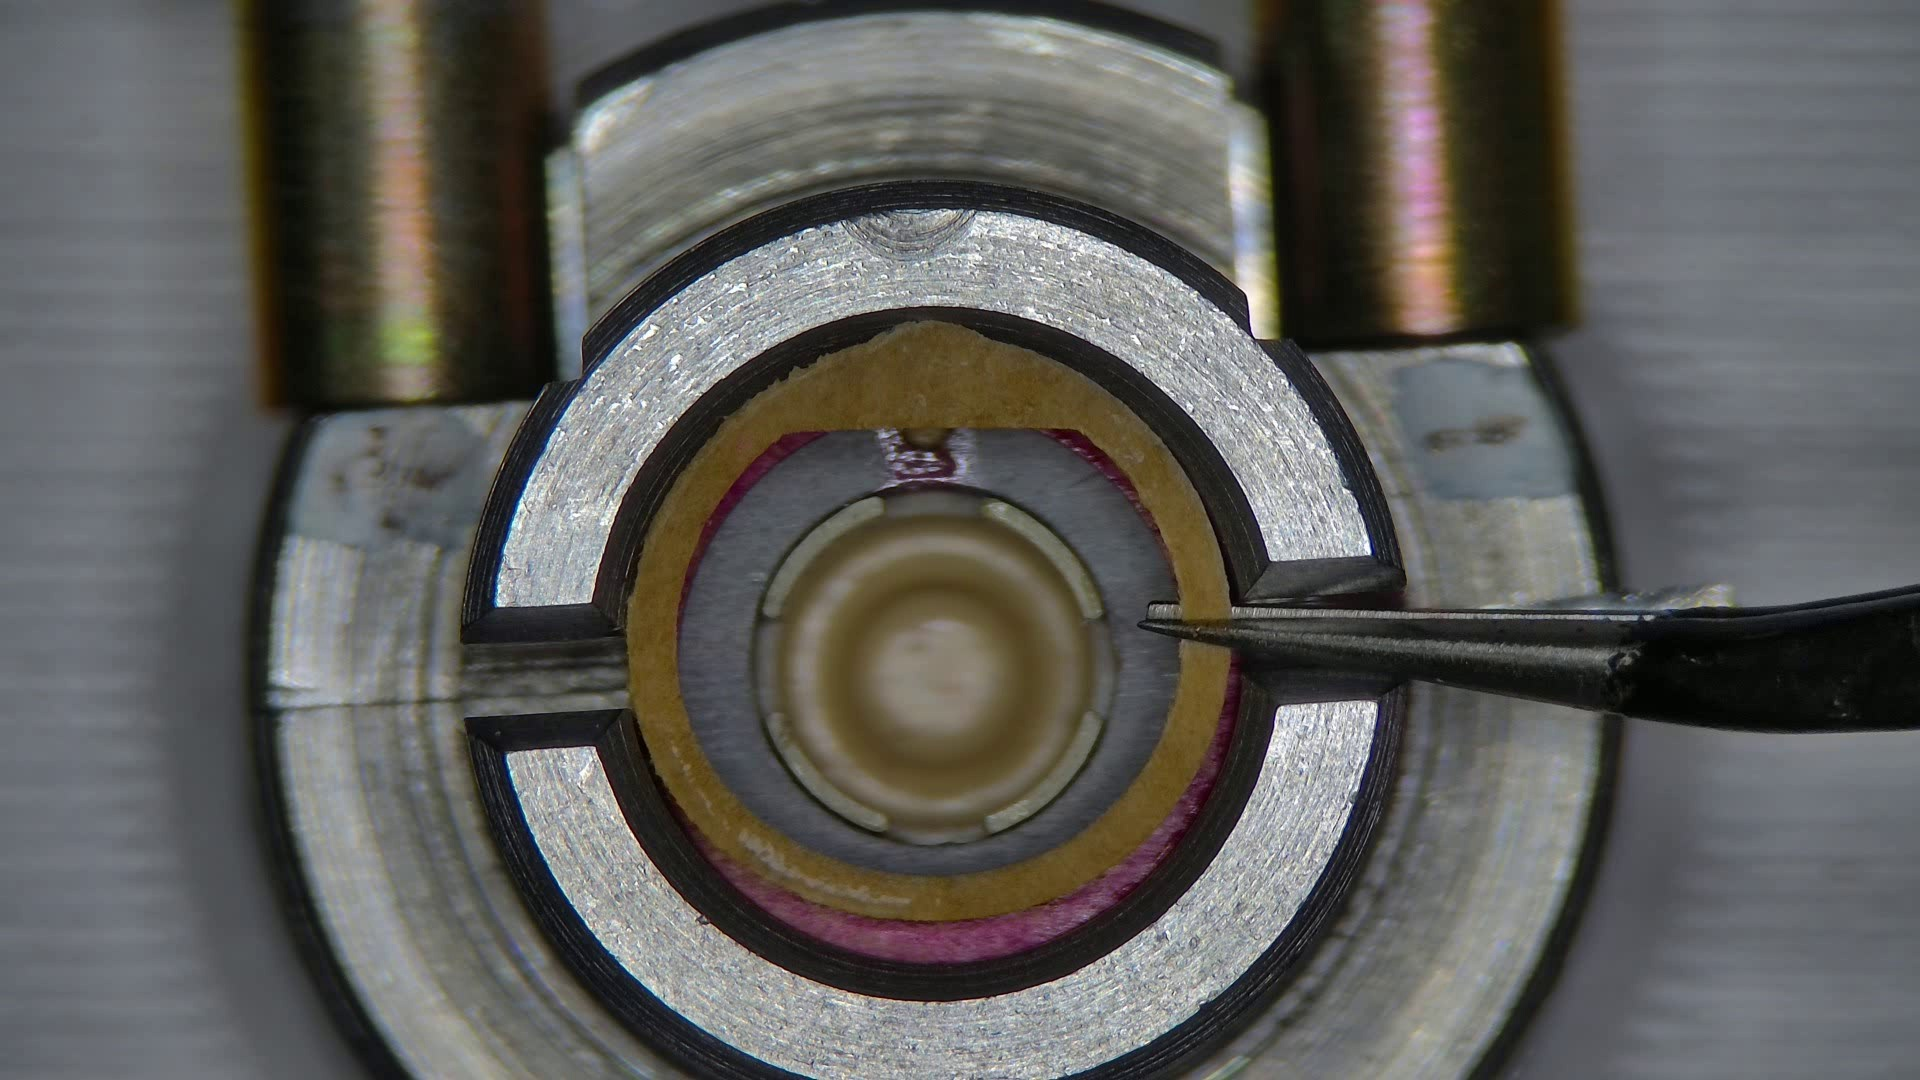GreyOring: (699, 725, 1218, 963)
YellowOring: (680, 429, 1175, 872)
redOring: (626, 320, 1229, 916)
